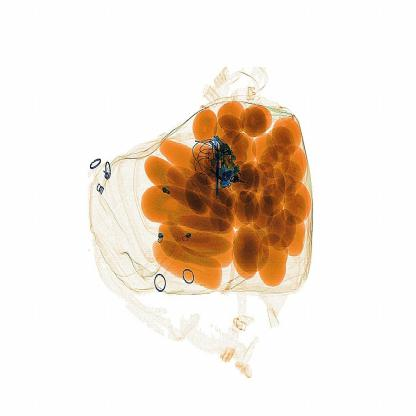knife: (210, 151, 228, 208)
